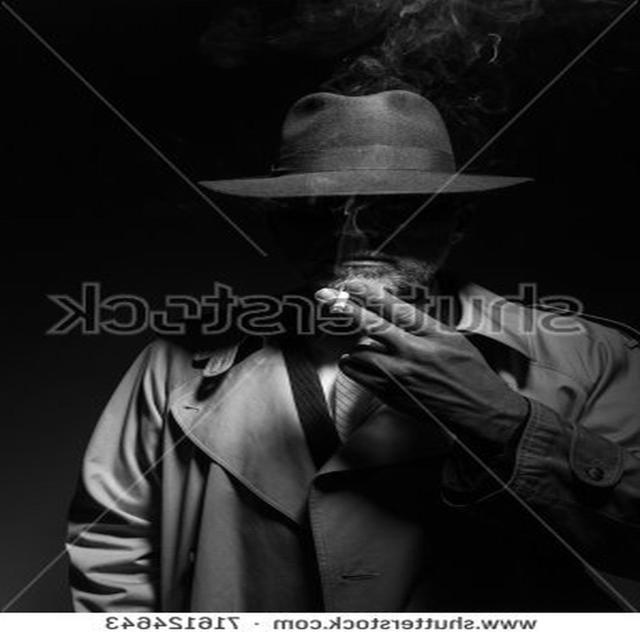smoking: (203, 85, 522, 442)
